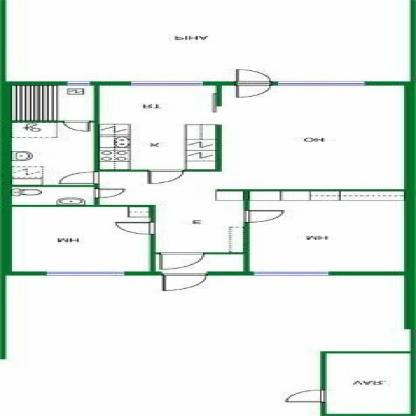door: (232, 66, 278, 100), (278, 388, 342, 404), (164, 272, 208, 293), (156, 254, 206, 272), (148, 168, 194, 184), (54, 172, 100, 186), (246, 211, 289, 225), (59, 120, 95, 134), (116, 222, 152, 235), (92, 189, 124, 200)
window: (276, 79, 367, 87), (43, 270, 121, 279), (251, 271, 332, 277), (127, 81, 206, 86), (69, 80, 82, 84)
zone: (6, 274, 416, 416), (103, 88, 404, 272), (6, 0, 403, 80), (252, 189, 395, 273), (100, 83, 214, 169), (11, 206, 156, 272), (325, 353, 410, 416), (16, 88, 91, 121), (14, 187, 96, 205)
